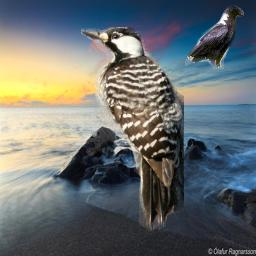Crow: (185, 3, 244, 69)
Woodpecker: (81, 27, 184, 233)
